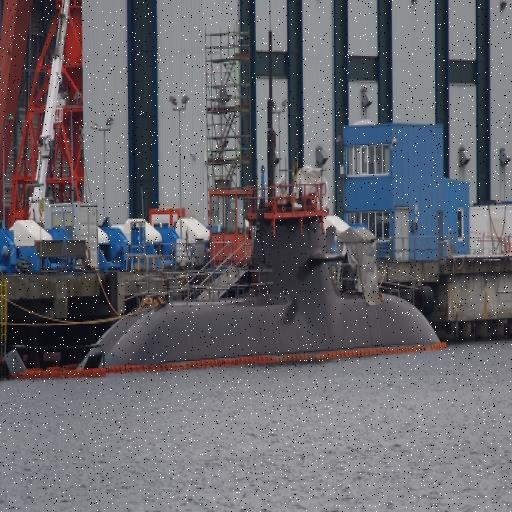submarine: (73, 205, 444, 371)
